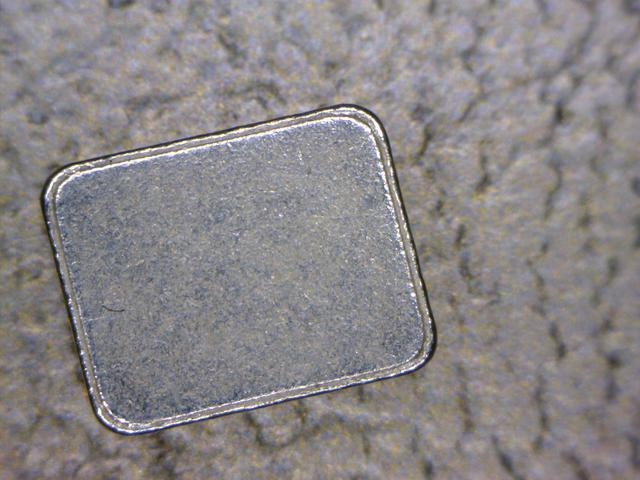nok: (38, 101, 441, 448)
